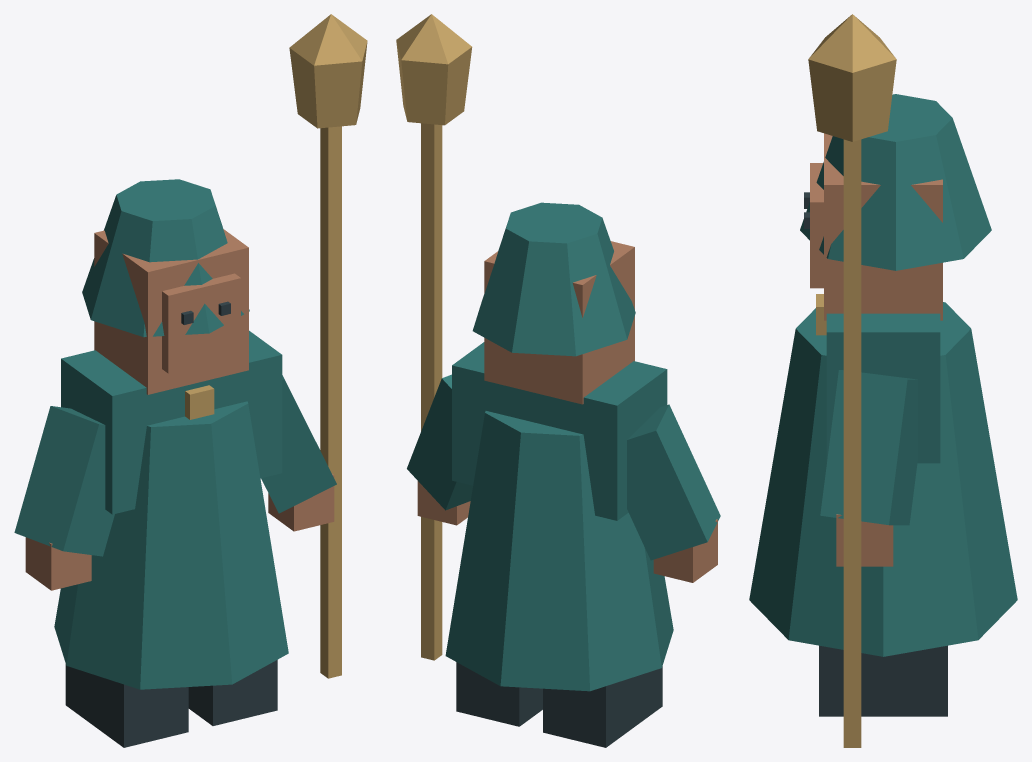
The model's file is NPC_QuestGiver.glb.
3 views of the same model, side by side, from view 1: azimuth 30°, elevation 25°; view 2: azimuth 150°, elevation 25°; view 3: azimuth 270°, elevation 25° (orthographic). The views are drawn at different scales.
Visible parts, largest first — view 1: NPC_QuestGiver_Sanctuary teal_-1_-1, NPC_QuestGiver_Warm skin_-1_-1, NPC_QuestGiver_Aged gold_-1_-1, NPC_QuestGiver_Ironwork_-1_-1; view 2: NPC_QuestGiver_Sanctuary teal_-1_-1, NPC_QuestGiver_Aged gold_-1_-1, NPC_QuestGiver_Warm skin_-1_-1, NPC_QuestGiver_Ironwork_-1_-1; view 3: NPC_QuestGiver_Sanctuary teal_-1_-1, NPC_QuestGiver_Aged gold_-1_-1, NPC_QuestGiver_Warm skin_-1_-1, NPC_QuestGiver_Ironwork_-1_-1.
Part boxes in pixels (x1,y1,x2,y2): NPC_QuestGiver_Sanctuary teal_-1_-1: [14, 179, 336, 689]; NPC_QuestGiver_Warm skin_-1_-1: [25, 229, 334, 590]; NPC_QuestGiver_Aged gold_-1_-1: [185, 14, 367, 678]; NPC_QuestGiver_Ironwork_-1_-1: [65, 301, 277, 747]; NPC_QuestGiver_Sanctuary teal_-1_-1: [407, 202, 720, 691]; NPC_QuestGiver_Aged gold_-1_-1: [396, 14, 472, 660]; NPC_QuestGiver_Warm skin_-1_-1: [417, 241, 717, 582]; NPC_QuestGiver_Ironwork_-1_-1: [456, 662, 662, 747]; NPC_QuestGiver_Sanctuary teal_-1_-1: [749, 94, 1017, 656]; NPC_QuestGiver_Aged gold_-1_-1: [808, 14, 896, 747]; NPC_QuestGiver_Warm skin_-1_-1: [810, 133, 942, 566]; NPC_QuestGiver_Ironwork_-1_-1: [804, 192, 947, 716].
Size of the model in its own units: 4.16 by 7.9 by 2.6.
